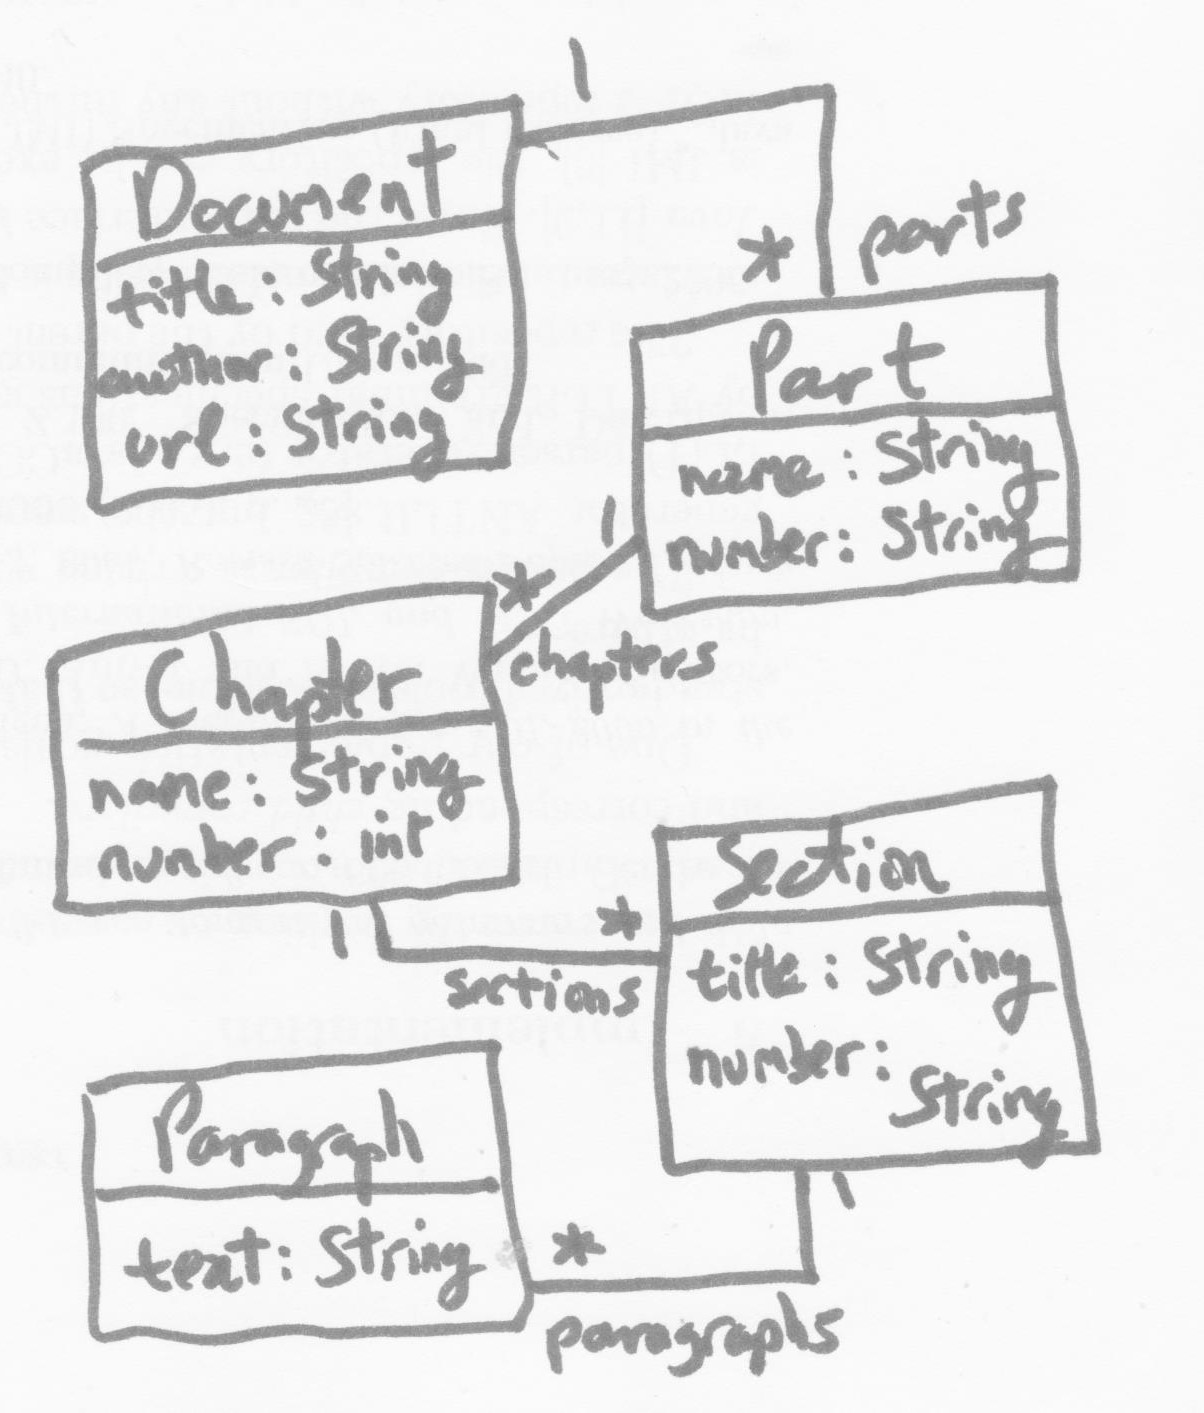association: (514, 27, 1028, 302), (528, 1161, 865, 1378), (493, 488, 722, 714), (314, 890, 665, 1022)
class attributes: (77, 90, 530, 523), (644, 774, 1104, 1178), (40, 574, 530, 912), (624, 271, 1087, 620), (77, 1039, 536, 1353)
